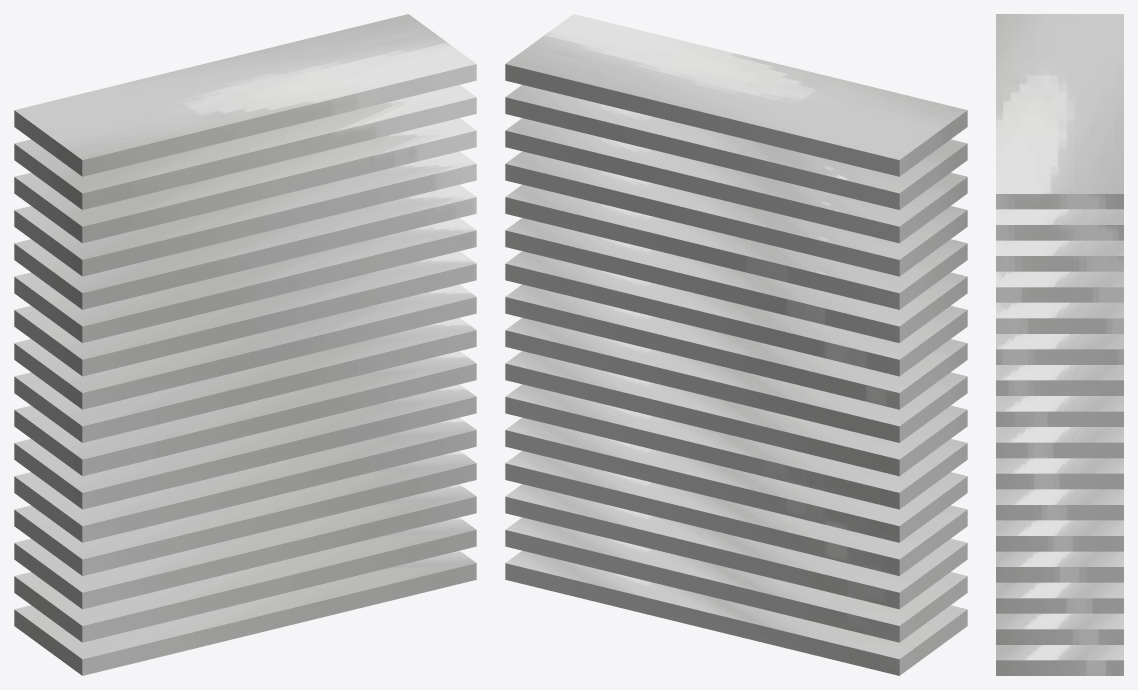
File: LongRidgeWall.fbx
3 renders of one model, left to right at view 1: azimuth 30°, elevation 25°; view 2: azimuth 150°, elevation 25°; view 3: azimuth 270°, elevation 25°, orthographic. The views are drawn at different scales.
Parts seen in each view (by area): view 1: pCube250; view 2: pCube250; view 3: pCube250.
Part boxes in pixels (left/top/right/bottom): pCube250: left=14, top=14, right=476, bottom=675; pCube250: left=505, top=14, right=967, bottom=675; pCube250: left=996, top=14, right=1123, bottom=675.
Bounding box in the file's own units: 500 × 625 × 150.
Materials: 1 (1 with a texture image).
